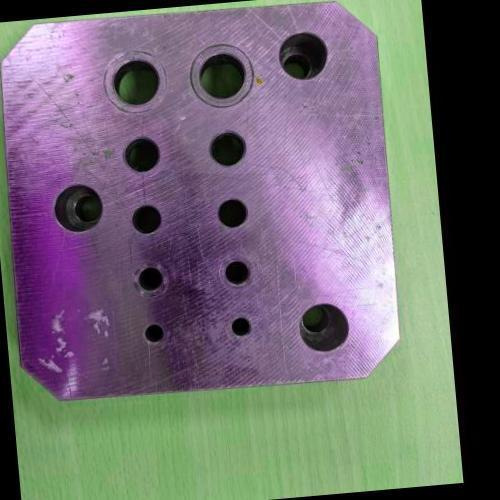hole: (180, 29, 266, 113), (96, 38, 178, 118), (289, 292, 364, 361), (268, 20, 338, 88), (44, 174, 111, 240), (112, 126, 170, 178), (200, 120, 255, 172), (125, 250, 178, 303), (208, 188, 256, 236), (123, 194, 173, 238), (214, 248, 262, 293), (221, 304, 265, 346), (135, 311, 177, 351)
